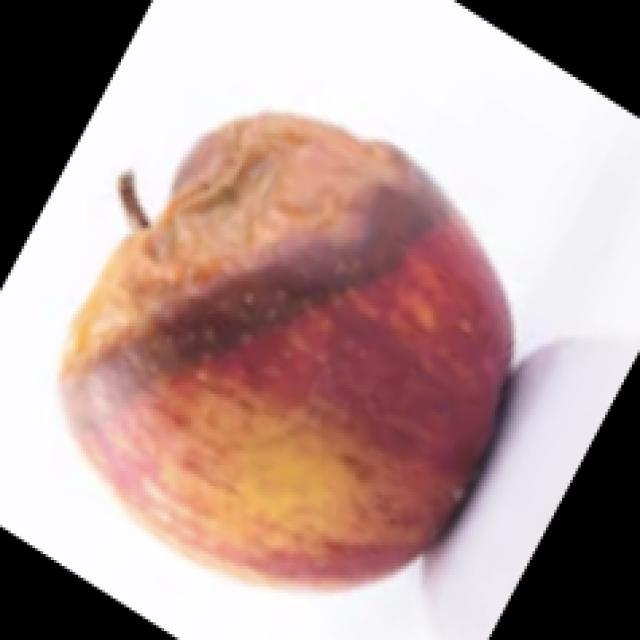Rotten: (75, 99, 512, 558)
